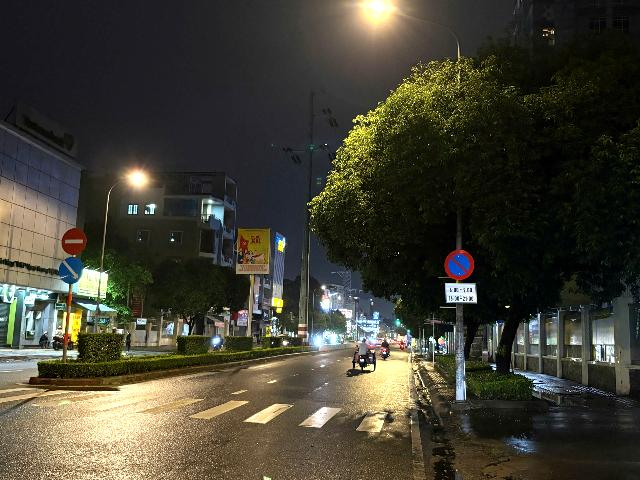cam-di-nguoc-chieu: (61, 228, 88, 254)
cam-do-xe: (444, 248, 474, 281)
huong-phai-di-vong-chuong-ngai-vat: (59, 256, 84, 284)
